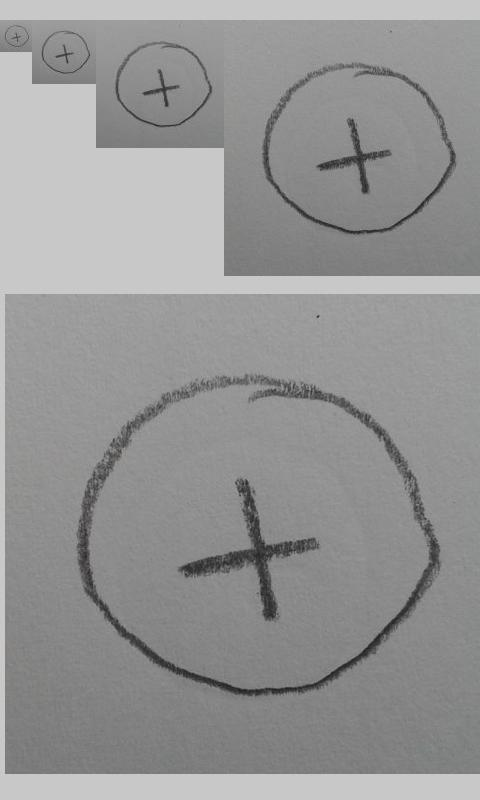button: (76, 373, 441, 698), (262, 61, 456, 235), (115, 41, 212, 128), (41, 30, 91, 74), (4, 24, 30, 48)
